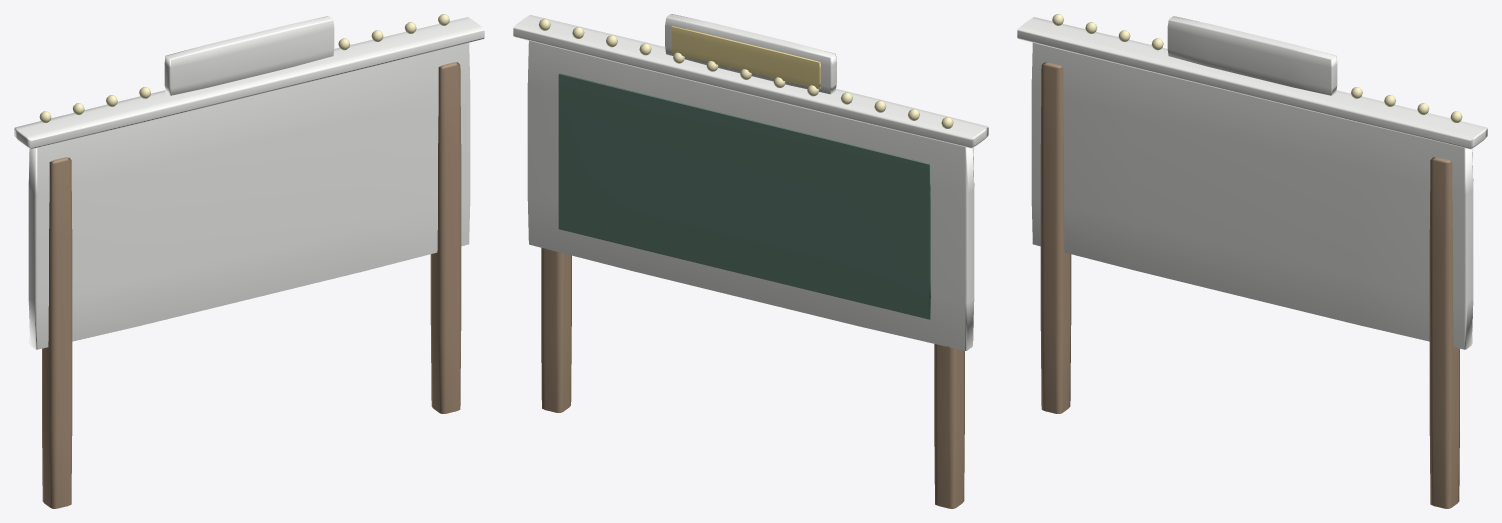
The model's file is StruggleScoreboard.glb.
3 renders of one model, left to right at view 1: azimuth 30°, elevation 25°; view 2: azimuth 150°, elevation 25°; view 3: azimuth 330°, elevation 25°, orthographic.
Visible parts, largest first — view 1: Frame, Legs, Bulbs; view 2: Face, Frame, Legs, Plaque, Bulbs; view 3: Frame, Legs, Bulbs.
Boxes of the visible parts, left/top/right/bottom form: Frame: left=14, top=16, right=484, bottom=349; Legs: left=42, top=62, right=461, bottom=508; Bulbs: left=39, top=14, right=449, bottom=122; Face: left=558, top=73, right=930, bottom=319; Frame: left=513, top=14, right=988, bottom=350; Legs: left=541, top=248, right=964, bottom=508; Plaque: left=671, top=26, right=820, bottom=89; Bulbs: left=539, top=18, right=953, bottom=128; Frame: left=1017, top=16, right=1487, bottom=349; Legs: left=1040, top=62, right=1459, bottom=508; Bulbs: left=1052, top=14, right=1462, bottom=122.
Size of the model in its own units: 19.2 by 16.89 by 1.3.
